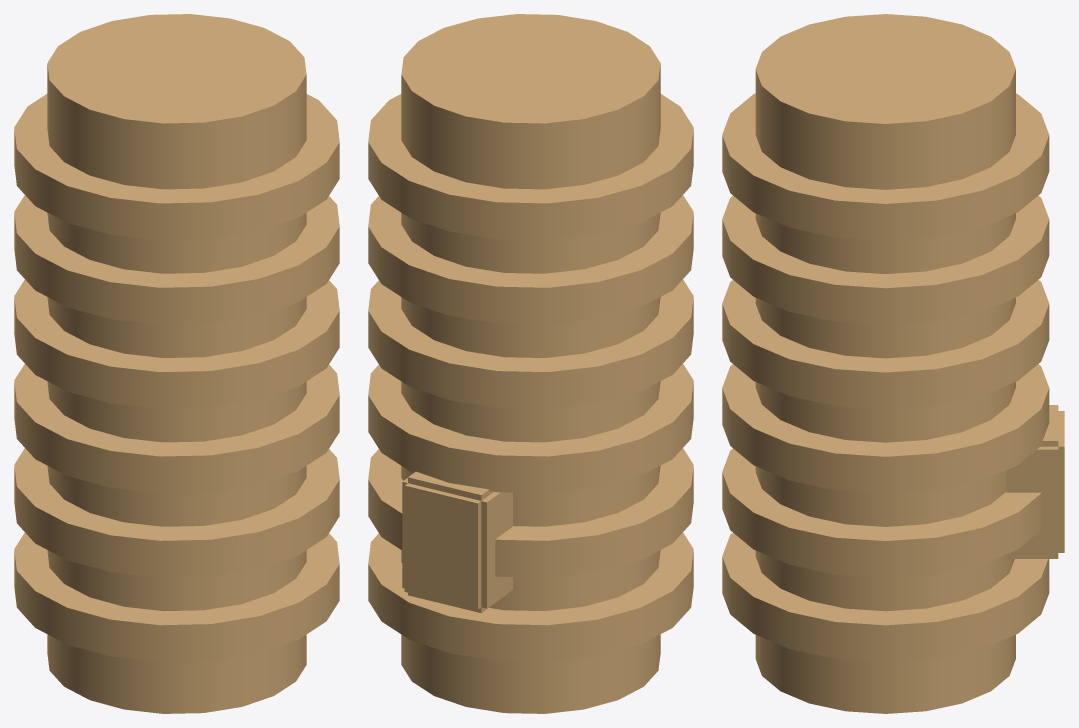
File: tesla_coil_housing.glb
3 renders of one model, left to right at view 1: azimuth 30°, elevation 25°; view 2: azimuth 150°, elevation 25°; view 3: azimuth 270°, elevation 25°, orthographic.
Parts seen in each view (by area): view 1: tesla_coil_housing; view 2: tesla_coil_housing; view 3: tesla_coil_housing.
Part boxes in pixels (bbox=[...]): tesla_coil_housing: bbox=[14, 14, 339, 713]; tesla_coil_housing: bbox=[368, 14, 693, 713]; tesla_coil_housing: bbox=[722, 14, 1064, 713].
Bounding box in the file's own units: 0.402 × 0.8 × 0.421.
